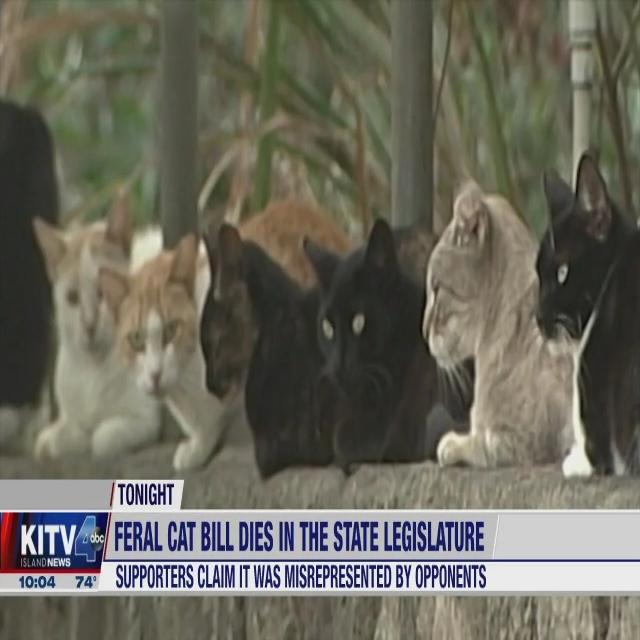cat: (201, 220, 472, 478), (422, 180, 574, 467), (201, 224, 334, 478), (536, 153, 640, 473), (34, 218, 161, 458), (99, 236, 228, 469)
